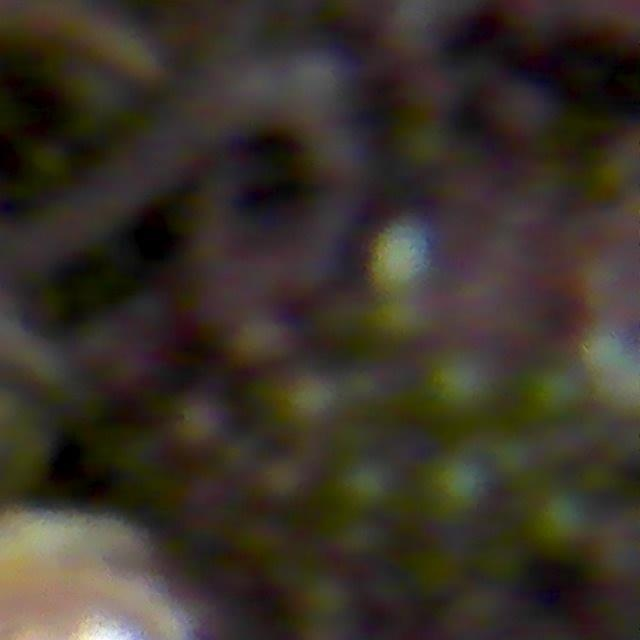SeaGrape: (425, 345, 502, 422), (424, 448, 496, 520), (492, 78, 557, 141), (336, 454, 400, 515), (295, 569, 359, 630), (529, 490, 592, 551), (233, 313, 294, 368)
